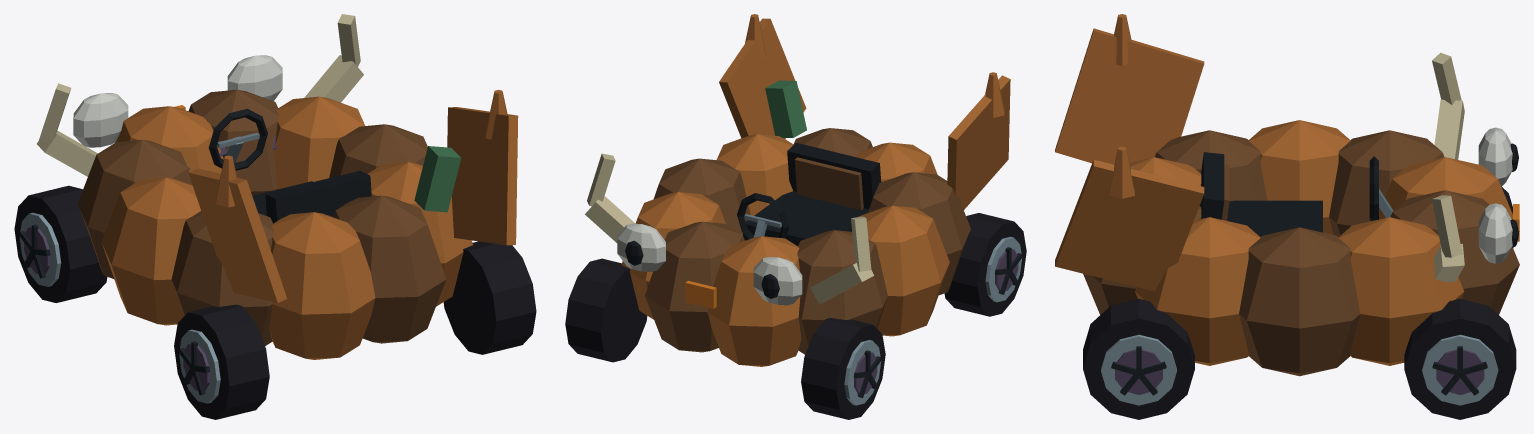
Rendered from kart.glb.
3 renders of one model, left to right at view 1: azimuth 30°, elevation 25°; view 2: azimuth 150°, elevation 25°; view 3: azimuth 270°, elevation 25°, orthographic. The views are drawn at different scales.
Visible parts, largest first — view 1: identity-pumpkin-pumpkin-lobed-carriage, identity-pumpkin-motif-bat-fins, wheel-rear-left, wheel-rear-right, wheel-front-left, identity-pumpkin-driver-cockpit, identity-pumpkin-motif-horns, identity-pumpkin-motif-eyes; view 2: identity-pumpkin-pumpkin-lobed-carriage, identity-pumpkin-motif-bat-fins, identity-pumpkin-driver-cockpit, wheel-front-left, wheel-front-right, wheel-rear-left, identity-pumpkin-motif-eyes, identity-pumpkin-motif-horns; view 3: identity-pumpkin-pumpkin-lobed-carriage, identity-pumpkin-motif-bat-fins, wheel-front-right, wheel-rear-right, identity-pumpkin-driver-cockpit, identity-pumpkin-motif-horns, identity-pumpkin-motif-eyes.
Boxes of the visible parts, x1,y1,x2,y2 form: identity-pumpkin-pumpkin-lobed-carriage: [78, 89, 472, 359]; identity-pumpkin-motif-bat-fins: [188, 89, 518, 302]; wheel-rear-left: [174, 304, 269, 419]; wheel-rear-right: [443, 241, 536, 354]; wheel-front-left: [14, 185, 107, 302]; identity-pumpkin-driver-cockpit: [208, 109, 371, 223]; identity-pumpkin-motif-horns: [37, 14, 363, 176]; identity-pumpkin-motif-eyes: [73, 55, 282, 147]; identity-pumpkin-pumpkin-lobed-carriage: [621, 80, 970, 366]; identity-pumpkin-motif-bat-fins: [719, 14, 1010, 209]; identity-pumpkin-driver-cockpit: [737, 142, 881, 246]; wheel-front-left: [801, 318, 885, 419]; wheel-front-right: [565, 258, 647, 362]; wheel-rear-left: [944, 213, 1026, 316]; identity-pumpkin-motif-eyes: [617, 223, 802, 305]; identity-pumpkin-motif-horns: [585, 153, 874, 304]; identity-pumpkin-pumpkin-lobed-carriage: [1083, 120, 1519, 376]; identity-pumpkin-motif-bat-fins: [1055, 14, 1204, 291]; wheel-front-right: [1404, 298, 1516, 419]; wheel-rear-right: [1083, 299, 1194, 419]; identity-pumpkin-driver-cockpit: [1199, 152, 1393, 236]; identity-pumpkin-motif-horns: [1432, 52, 1464, 282]; identity-pumpkin-motif-eyes: [1478, 127, 1518, 263].
Bounding box in the file's own units: 2.04 × 1.55 × 2.49.
